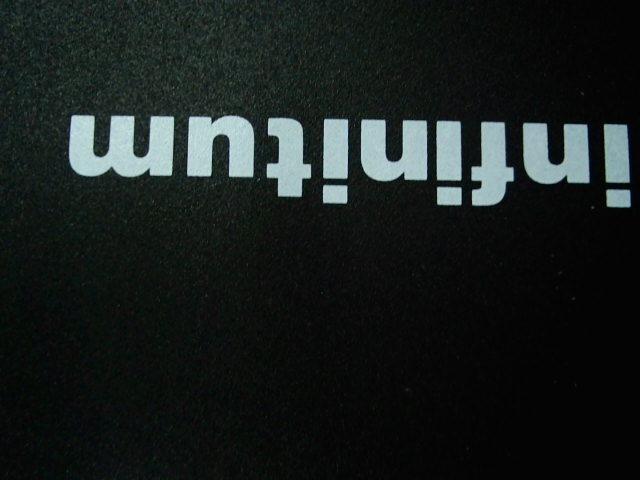BK_infinitum: (63, 106, 637, 218)
